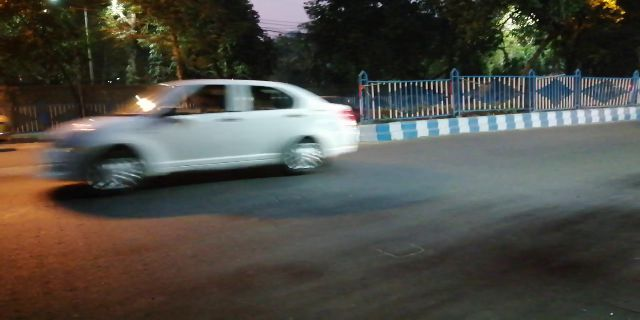Car: (53, 80, 364, 178)
